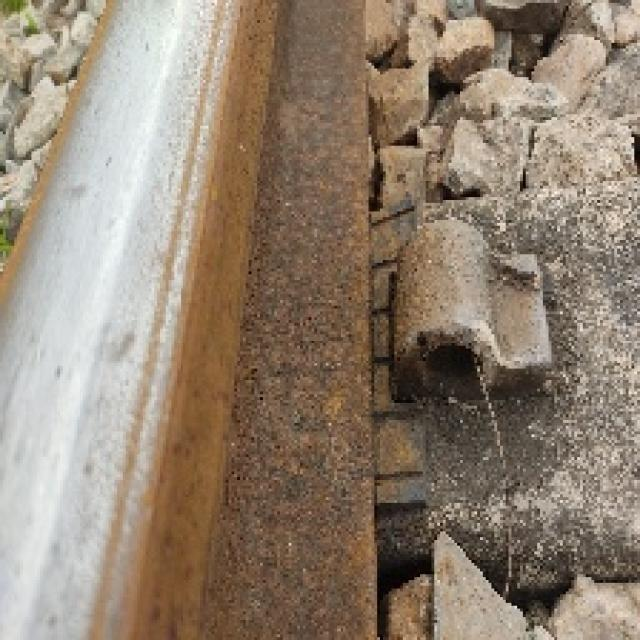Missing Fastener: (361, 212, 575, 431)
